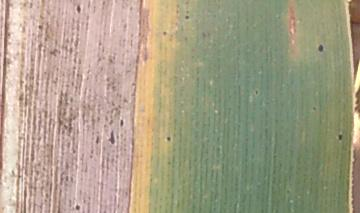tarspot: (109, 126, 117, 148), (73, 2, 82, 15), (317, 40, 325, 53), (338, 130, 343, 143), (119, 117, 125, 127), (253, 88, 259, 97), (166, 135, 172, 144), (95, 134, 99, 145), (313, 105, 318, 112), (184, 15, 191, 20)
